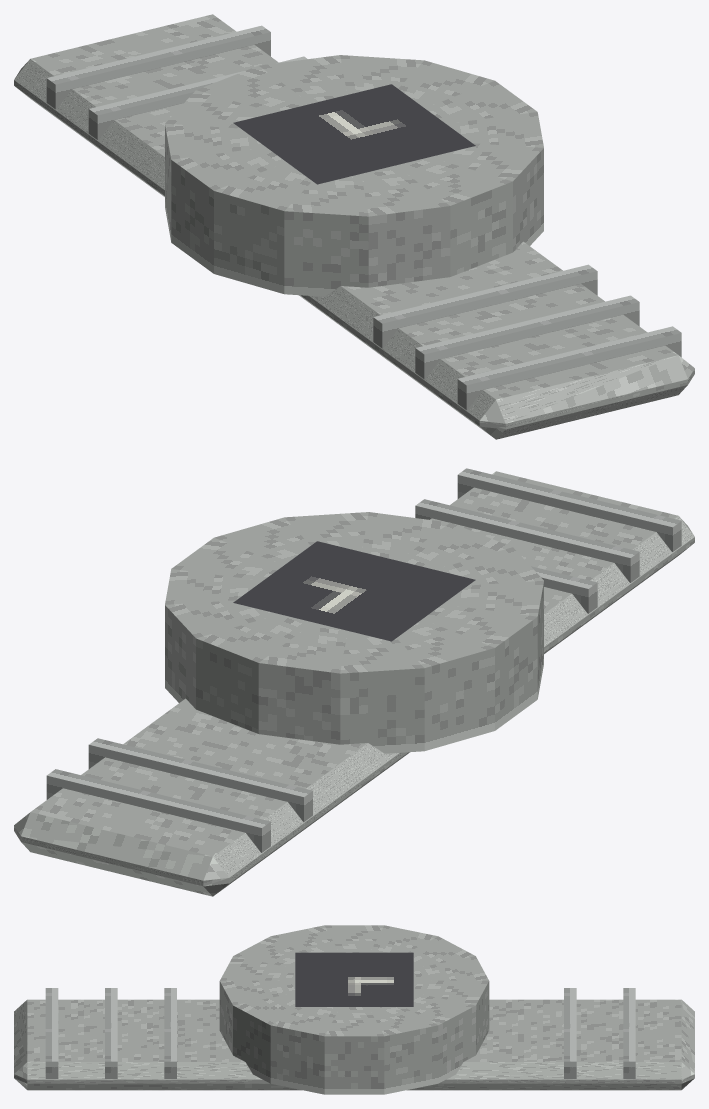
Rendered from platinum_watch.glb.
The picture shows the model from 3 angles, top to bottom: view 1: azimuth 30°, elevation 25°; view 2: azimuth 150°, elevation 25°; view 3: azimuth 270°, elevation 25°; orthographic projection. The views are drawn at different scales.
Visible parts, largest first — view 1: block_watch bezel, block_wrist strap, block_bracelet segment (×5), block_watch face; view 2: block_watch bezel, block_wrist strap, block_bracelet segment (×5), block_watch face; view 3: block_wrist strap, block_watch bezel, block_watch face, block_bracelet segment (×5).
Boxes of the visible parts, box(x1,y1,x2,y2) form: block_watch bezel: box(165, 55, 543, 296); block_wrist strap: box(14, 14, 694, 439); block_bracelet segment (×5): box(46, 25, 681, 409); block_watch face: box(233, 84, 475, 184); block_watch bezel: box(165, 512, 543, 753); block_wrist strap: box(14, 471, 694, 896); block_bracelet segment (×5): box(46, 468, 681, 852); block_watch face: box(233, 541, 475, 641); block_wrist strap: box(14, 999, 694, 1090); block_watch bezel: box(219, 925, 489, 1094); block_watch face: box(295, 952, 413, 1006); block_bracelet segment (×5): box(45, 988, 635, 1078).
Bounding box in the file's own units: 0.0514 × 0.0171 × 0.1332.
1 material, 1 textured.
